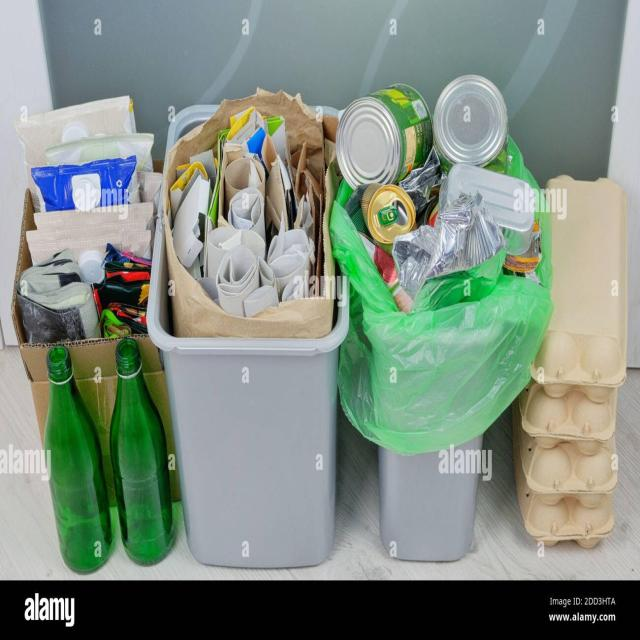glass: (50, 352, 162, 558)
metal: (364, 109, 513, 286)
paper: (180, 119, 317, 328), (37, 141, 148, 314)
plastic: (553, 304, 618, 550)
